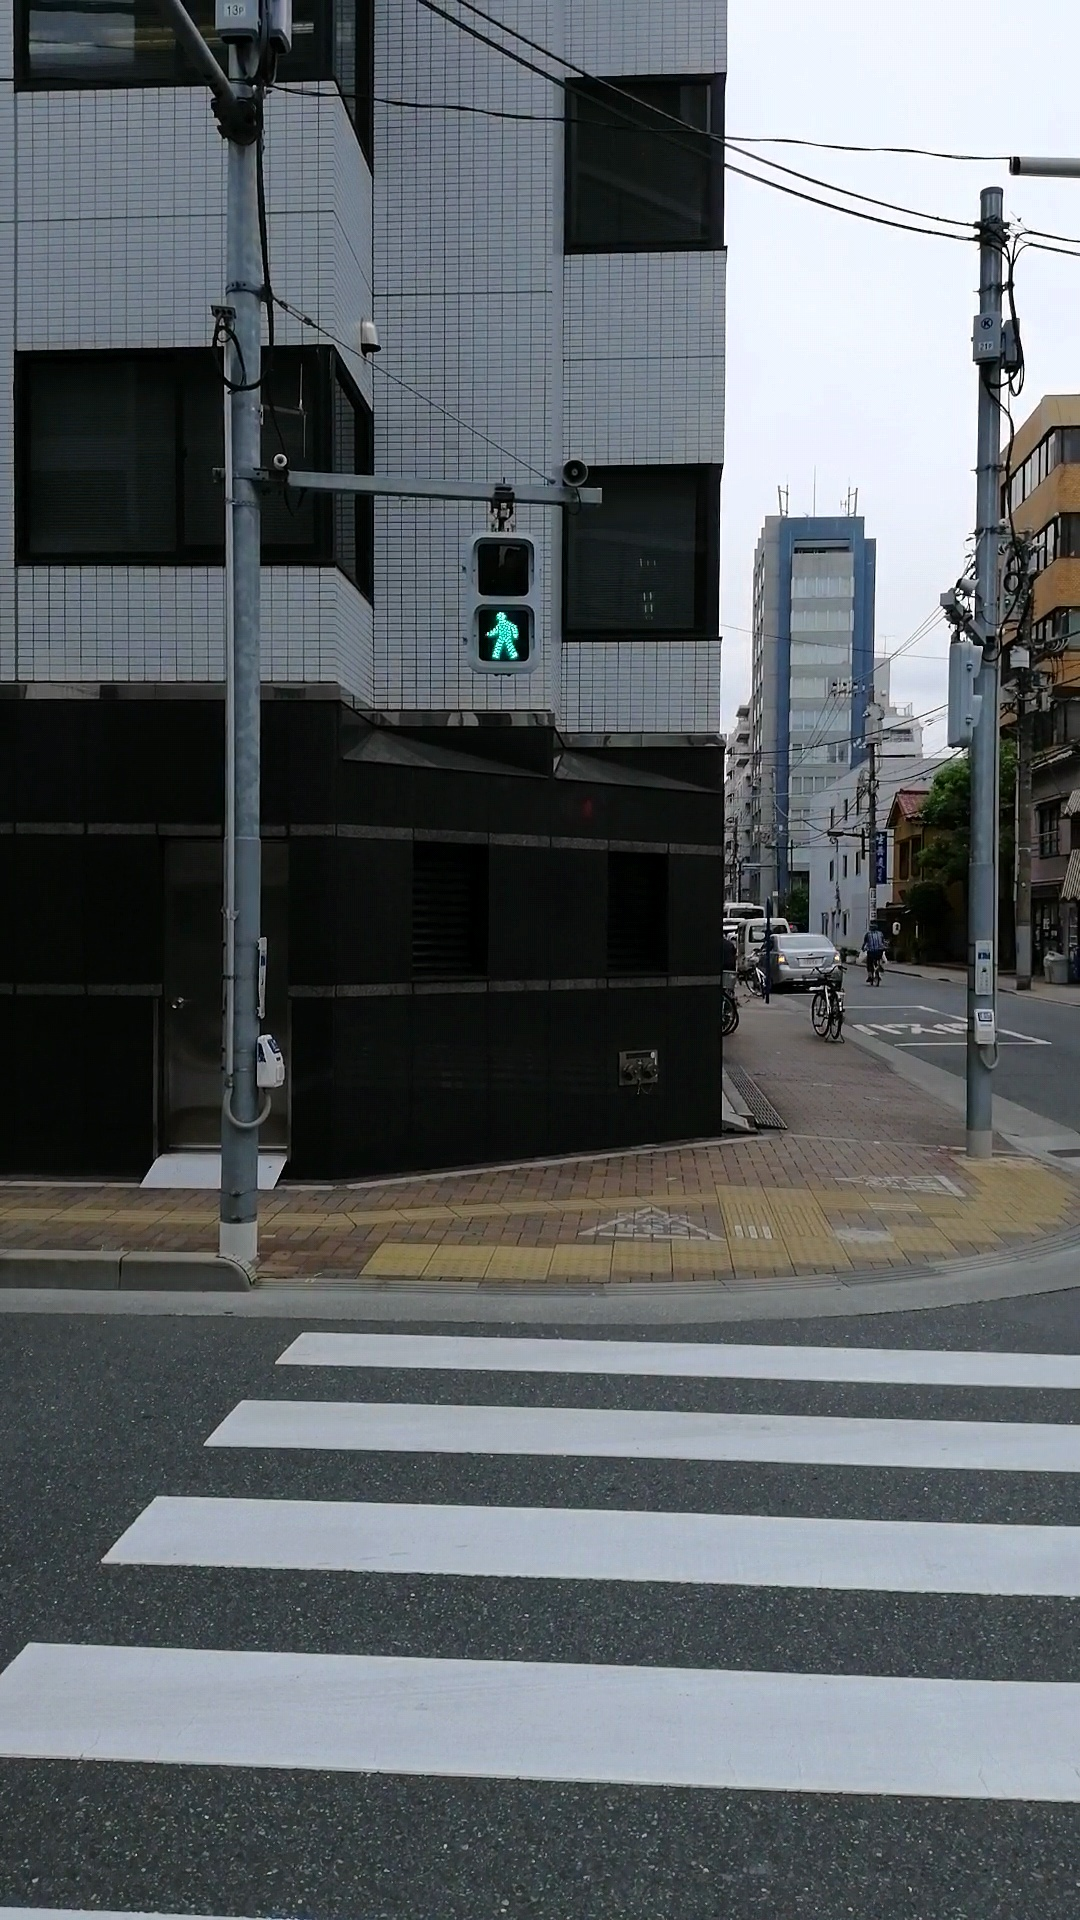green: (465, 531, 538, 675)
